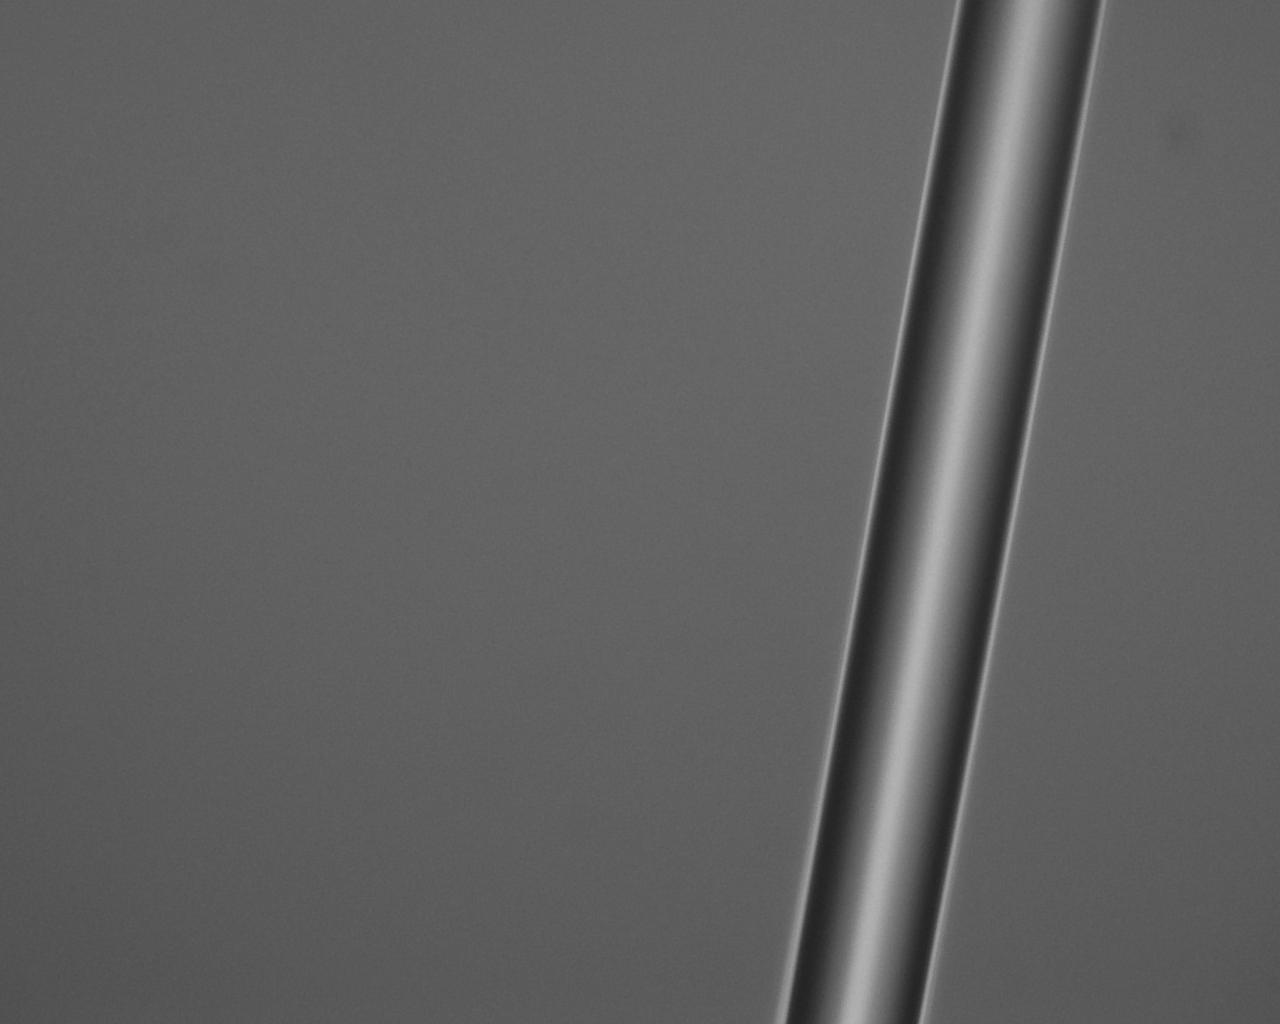fiber: (706, 100, 897, 706), (98, 350, 691, 504), (0, 997, 691, 1024)
